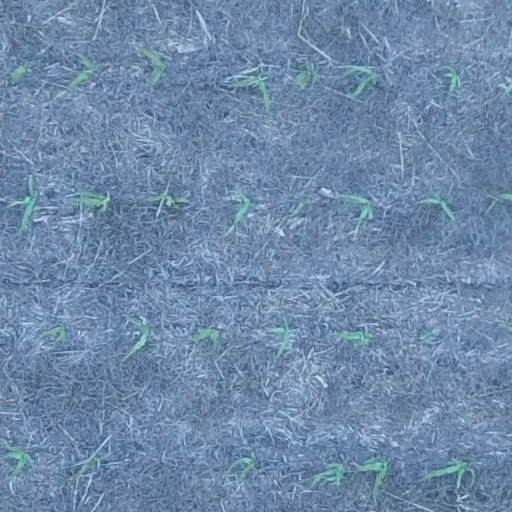planta: (9, 174, 37, 232), (231, 76, 271, 106), (346, 65, 378, 97), (140, 46, 167, 82), (5, 443, 33, 475), (424, 459, 469, 478), (360, 460, 389, 489), (69, 55, 94, 88), (343, 196, 373, 223), (128, 318, 150, 353), (312, 461, 345, 484), (427, 194, 456, 219), (151, 193, 190, 210), (69, 190, 110, 206), (270, 321, 289, 355), (234, 188, 251, 223), (232, 457, 254, 481), (335, 332, 374, 345), (295, 68, 316, 91), (445, 66, 461, 93), (194, 328, 218, 344), (11, 62, 31, 81), (43, 326, 66, 341)
